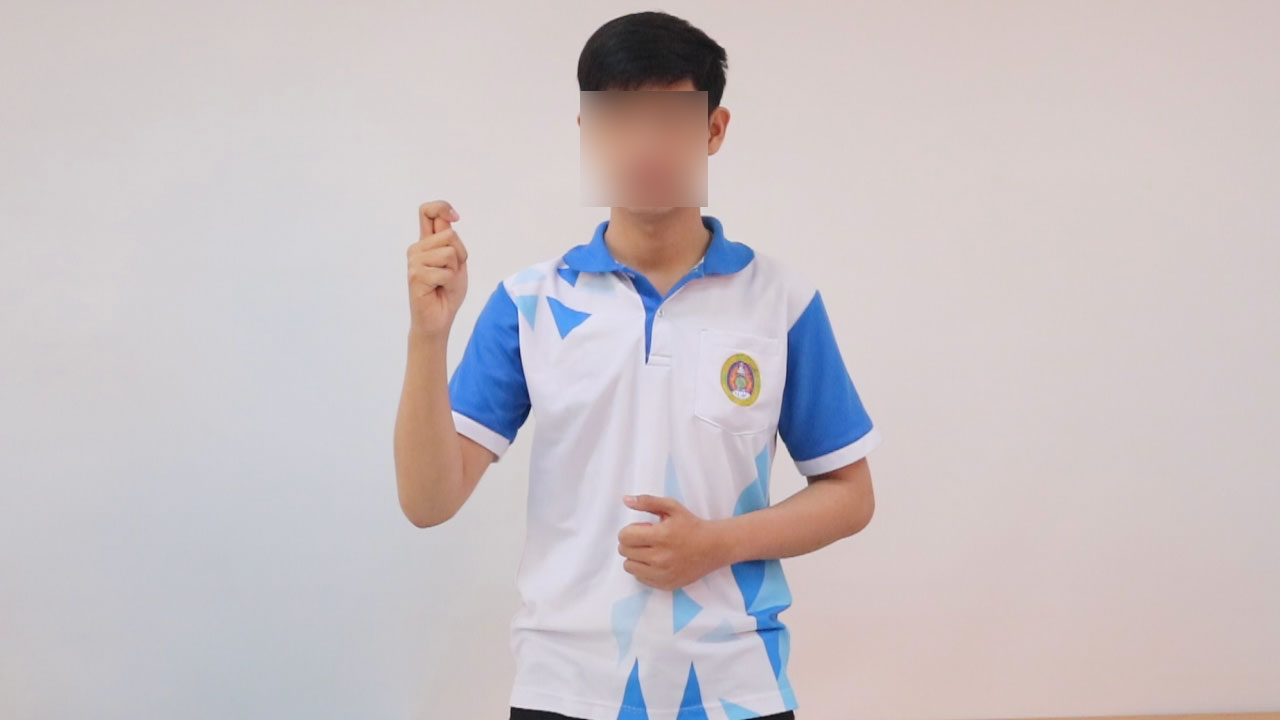or: (397, 190, 480, 347)
